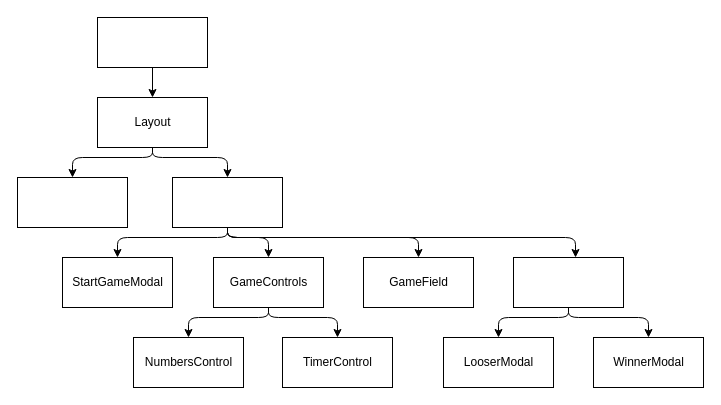
Image size: 721x405. Some labels were removed from this diagram. Here are the shapes that lost their labels. From the top down, the box of each, then its label:
(96, 16, 208, 68): App
(16, 176, 128, 228): Toolbar
(172, 176, 282, 228): GameLoader
(512, 256, 624, 308): EndGameModals
